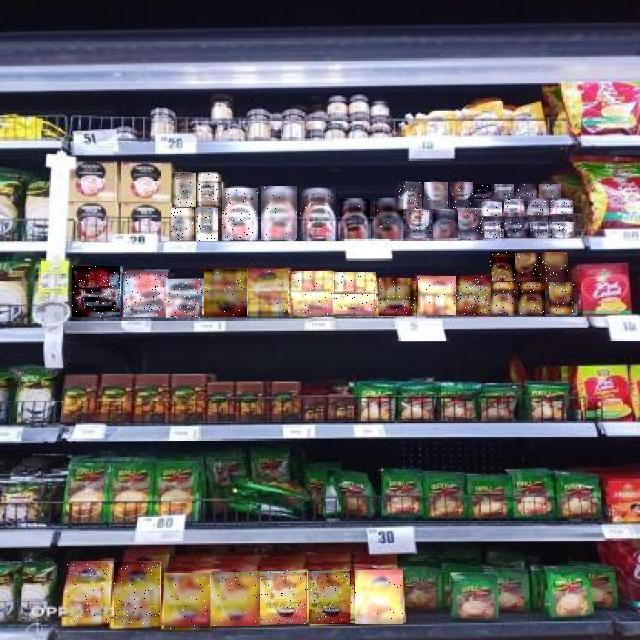Coffee: (114, 563, 160, 627), (66, 562, 109, 626), (211, 572, 260, 626), (355, 570, 403, 624), (261, 570, 309, 624), (164, 574, 210, 630), (72, 266, 120, 317), (310, 570, 354, 624), (123, 271, 168, 317), (204, 269, 247, 317), (261, 186, 297, 240), (291, 271, 334, 315), (333, 272, 376, 316), (222, 188, 258, 240), (301, 188, 337, 240), (249, 270, 289, 316), (418, 276, 456, 315), (456, 276, 492, 316), (166, 279, 202, 318), (380, 279, 416, 317), (341, 199, 371, 239), (375, 199, 403, 239), (518, 282, 545, 316), (458, 208, 486, 240), (492, 282, 518, 316), (550, 283, 576, 315), (172, 173, 196, 207), (543, 252, 569, 282), (516, 253, 542, 282), (490, 252, 515, 282), (406, 210, 432, 238), (196, 208, 218, 241), (198, 172, 219, 206), (172, 208, 194, 240), (433, 210, 458, 238), (398, 182, 422, 209), (424, 182, 448, 209), (450, 182, 473, 209), (505, 220, 531, 238), (552, 222, 574, 238), (530, 222, 552, 238), (550, 200, 573, 214), (516, 185, 536, 201), (494, 185, 514, 201), (504, 200, 524, 216), (528, 200, 549, 215), (539, 184, 561, 198), (486, 222, 504, 238), (483, 202, 503, 216), (474, 184, 491, 199)
